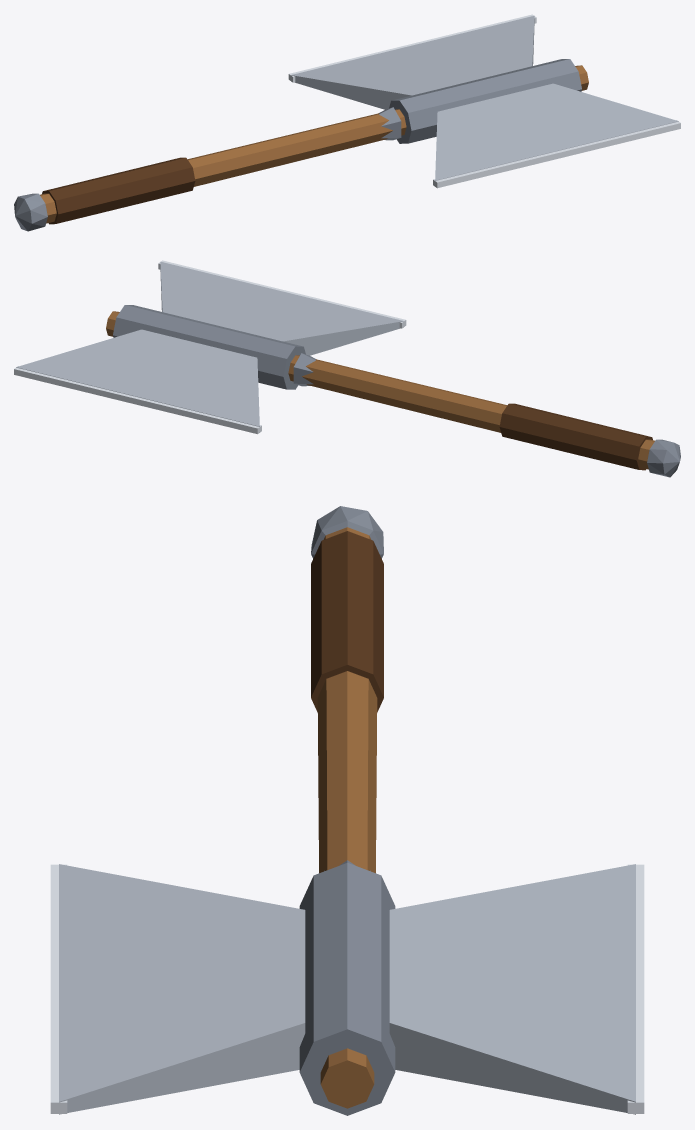
The model's file is drop_steel_axe.glb.
3 renders of one model, top to bottom at view 1: azimuth 30°, elevation 25°; view 2: azimuth 150°, elevation 25°; view 3: azimuth 270°, elevation 25°, orthographic. The views are drawn at different scales.
Visible parts, largest first — view 1: drop_steel_axe; view 2: drop_steel_axe; view 3: drop_steel_axe.
Part boxes in pixels (x1,y1,x2,y2): drop_steel_axe: (14,14,680,231); drop_steel_axe: (14,260,680,477); drop_steel_axe: (50,506,644,1115).
Bounding box in the file's own units: 0.7768 × 0.0544 × 0.3376.
